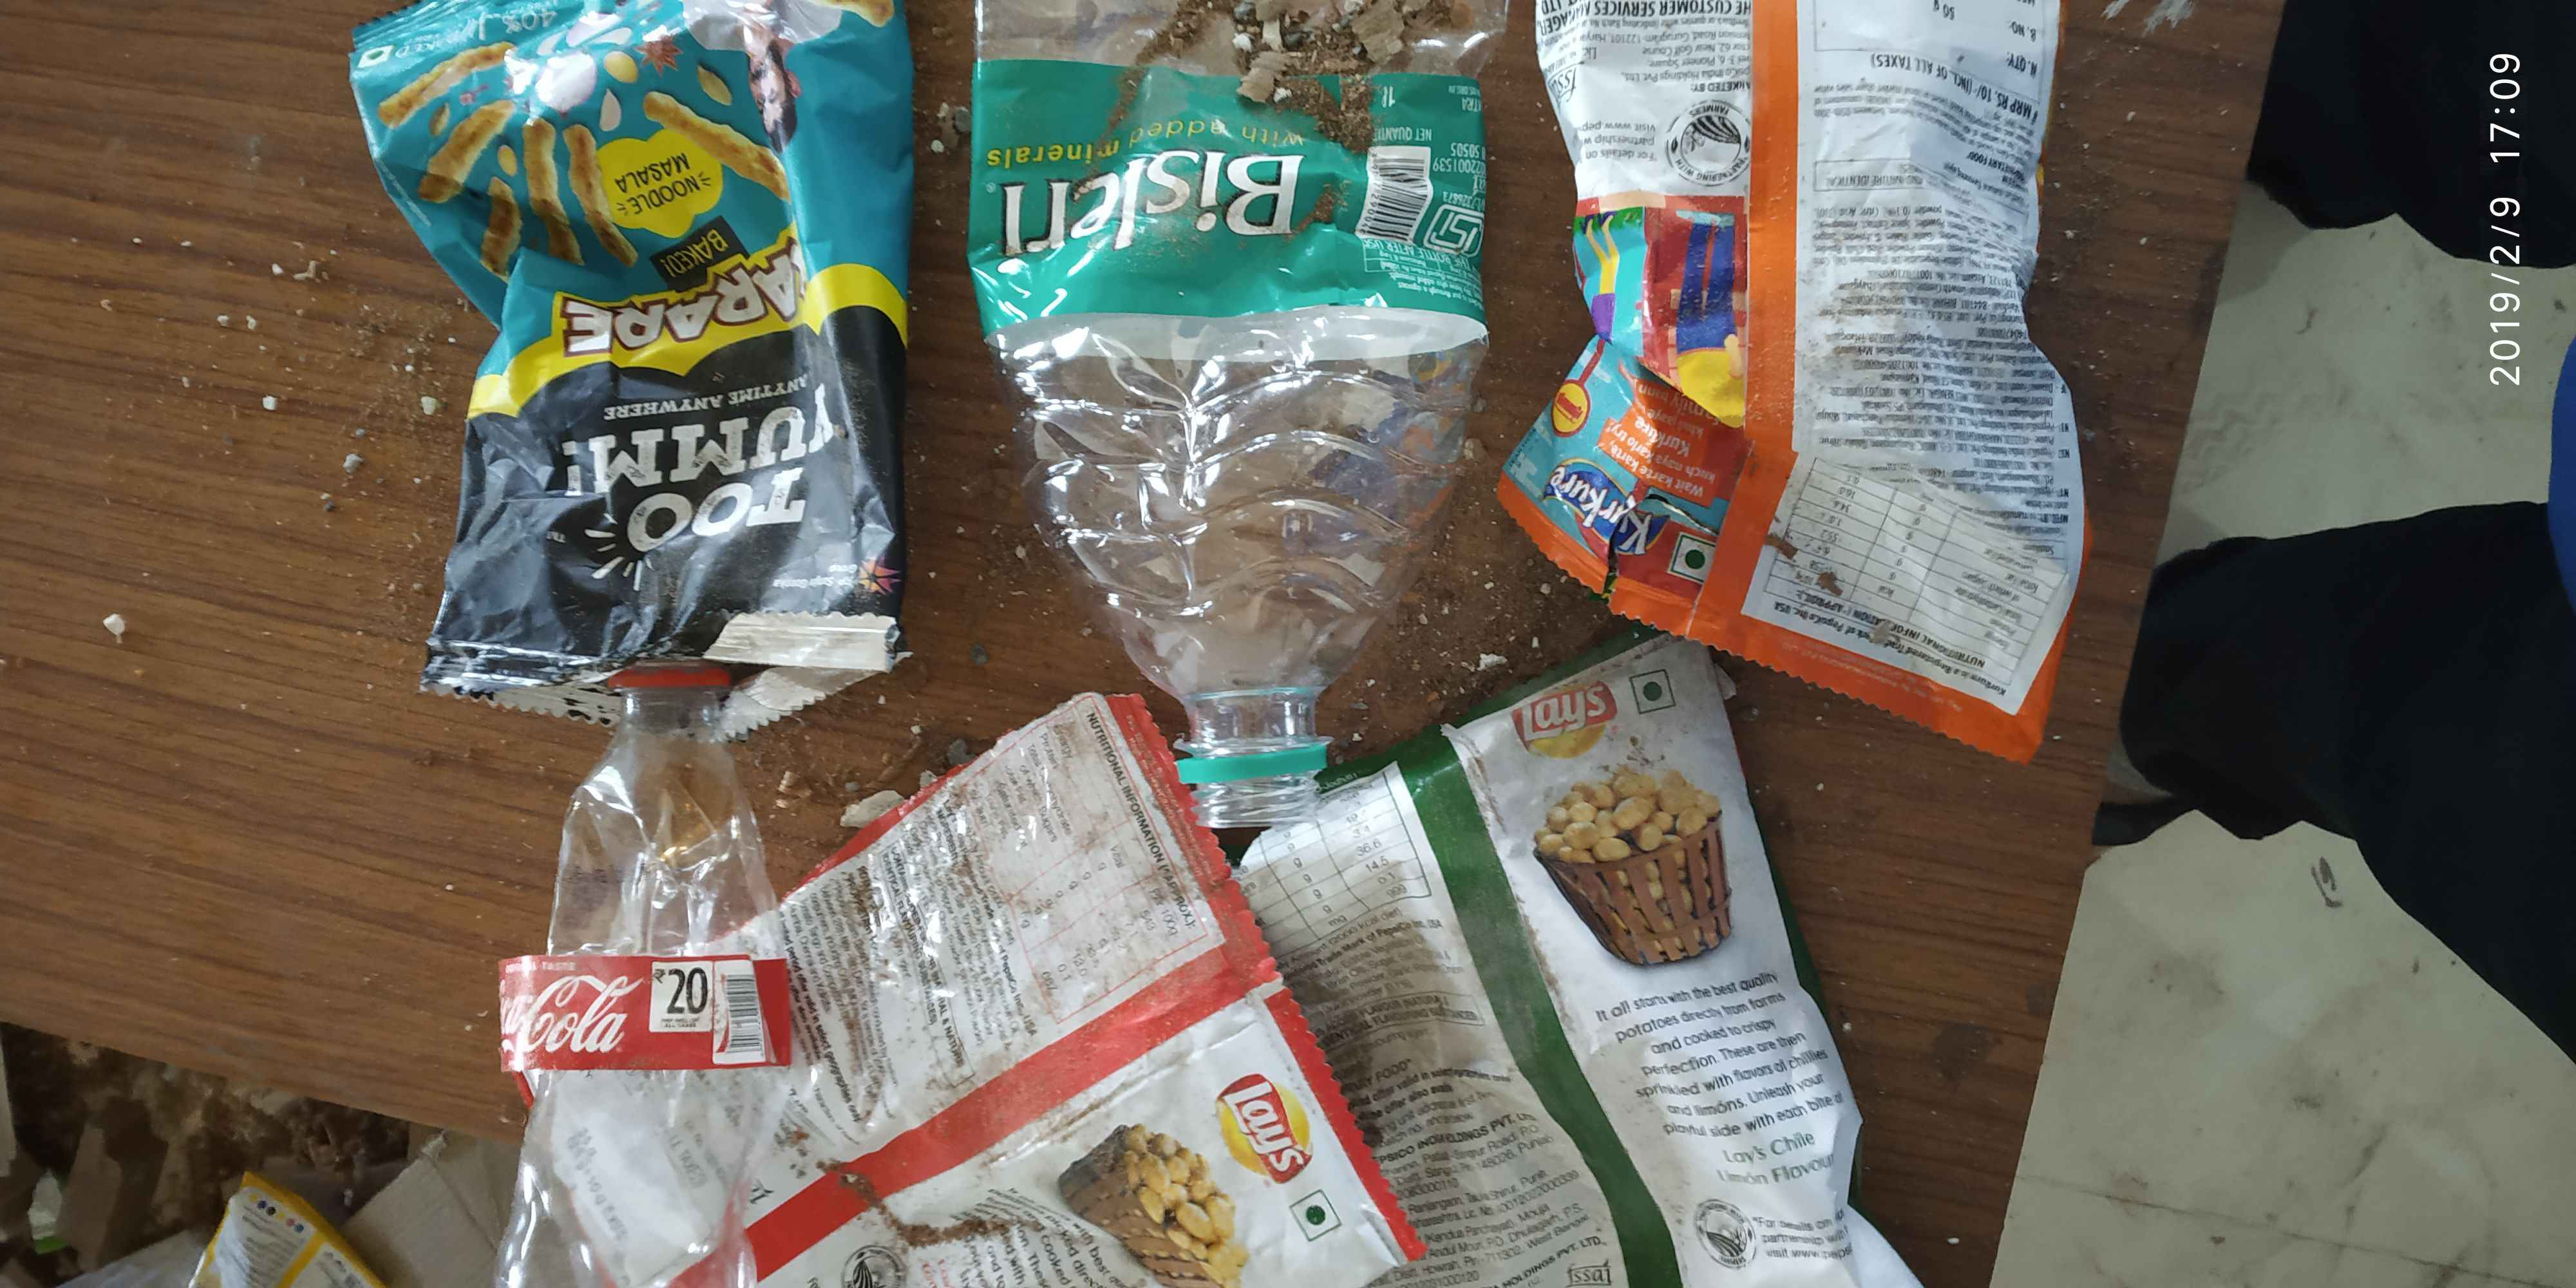Bisleri: (984, 69, 1482, 314)
Coca-Cola: (483, 961, 734, 1065)
Lays: (1206, 1061, 1321, 1199), (1502, 669, 1636, 777)
kurkure: (1536, 444, 1681, 575)
tooyumm: (539, 350, 895, 572)
